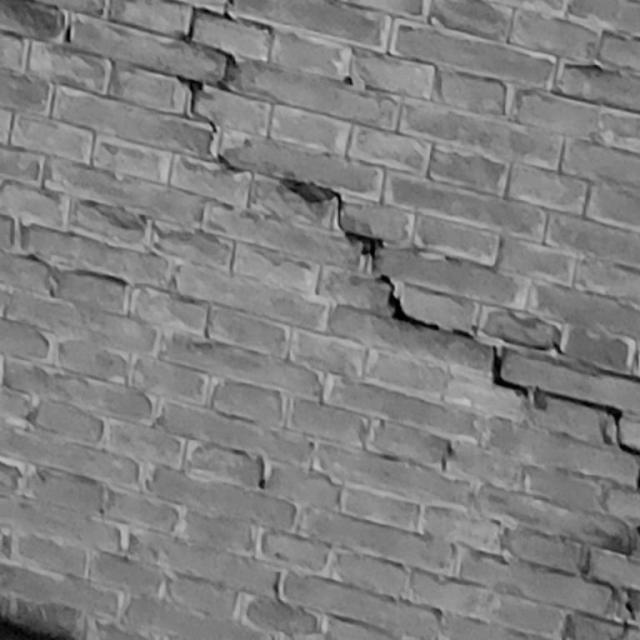crack: (177, 1, 639, 456)
